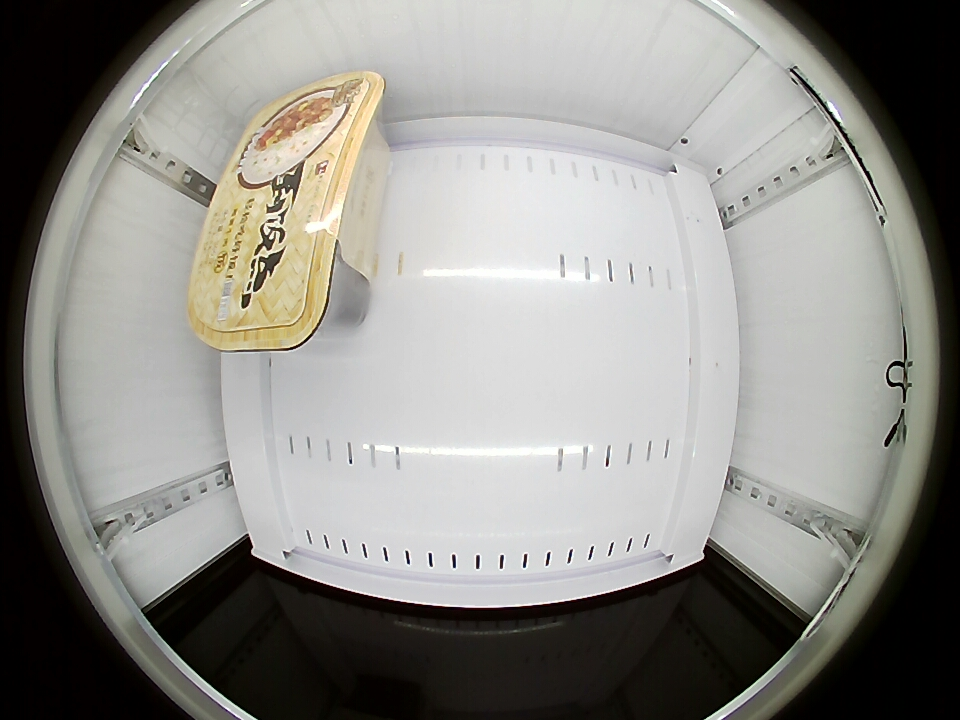daofandian2: (189, 69, 383, 351)
